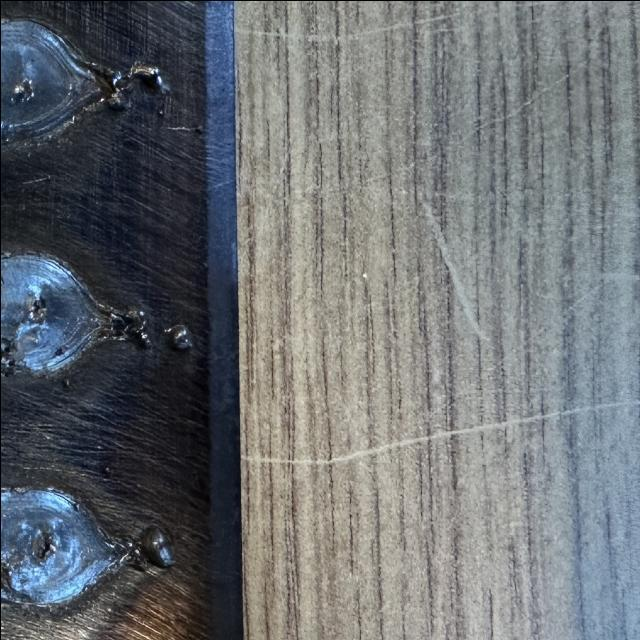Excess Reinforcement: (88, 61, 130, 108), (94, 302, 130, 340), (108, 539, 142, 572), (156, 106, 162, 117)
Spatters: (125, 60, 169, 95), (138, 527, 174, 567), (120, 308, 150, 348), (165, 324, 192, 348), (102, 466, 111, 477)
